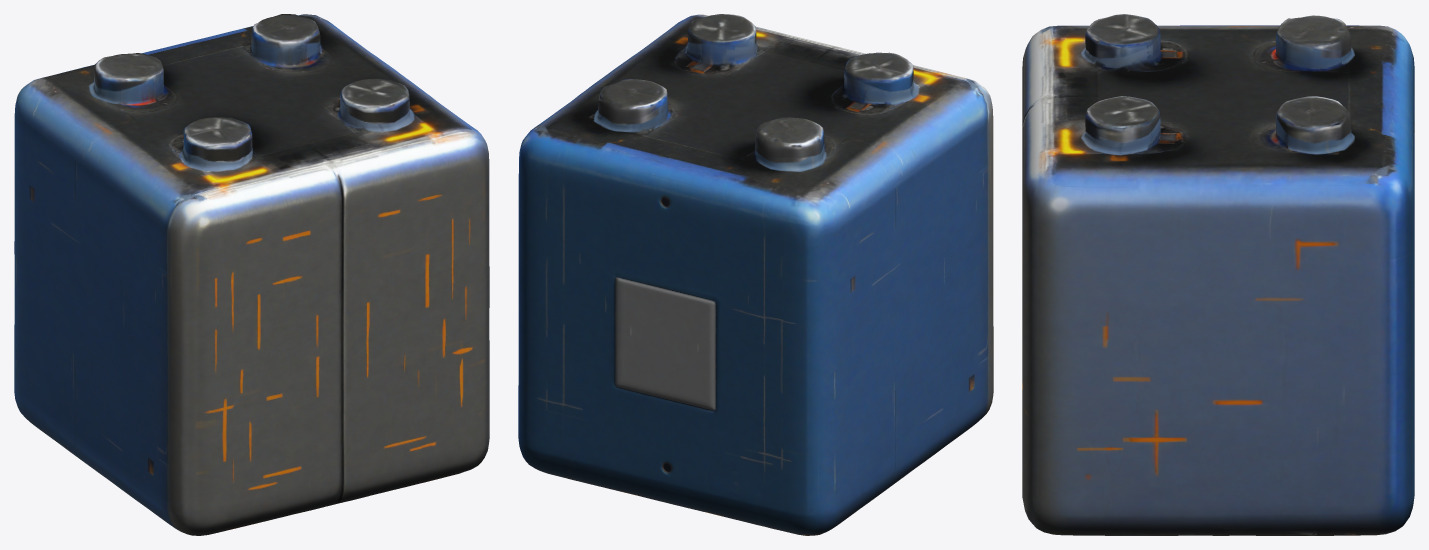
The model's file is Battery.fbx.
3 views of the same model, side by side, from view 1: azimuth 30°, elevation 25°; view 2: azimuth 150°, elevation 25°; view 3: azimuth 270°, elevation 25° (orthographic). The views are drawn at different scales.
Visible parts, largest first — view 1: Mesh1_Mesh1.123; view 2: Mesh1_Mesh1.123; view 3: Mesh1_Mesh1.123.
Part boxes in pixels (left/top/right/bottom): Mesh1_Mesh1.123: left=14, top=14, right=489, bottom=535; Mesh1_Mesh1.123: left=518, top=14, right=993, bottom=535; Mesh1_Mesh1.123: left=1022, top=14, right=1414, bottom=535.
Size of the model in its own units: 180 by 200 by 180.
Materials: 1 (1 with a texture image).
